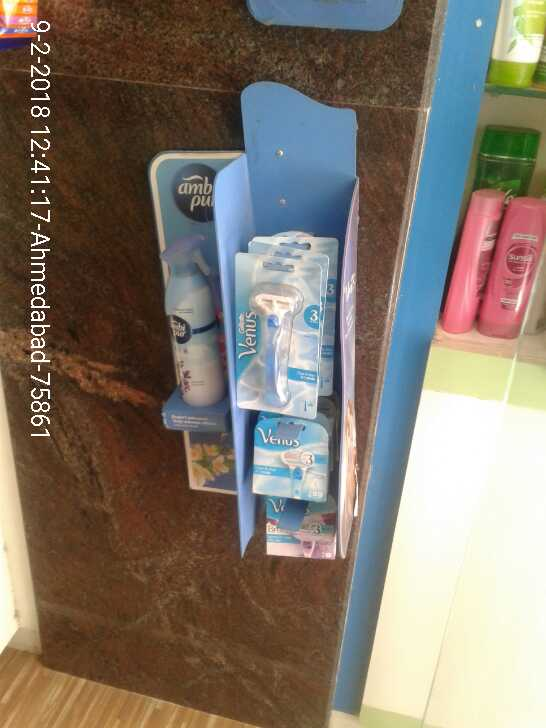beauty: (226, 248, 317, 411), (250, 418, 322, 501)
home: (150, 222, 228, 414)
